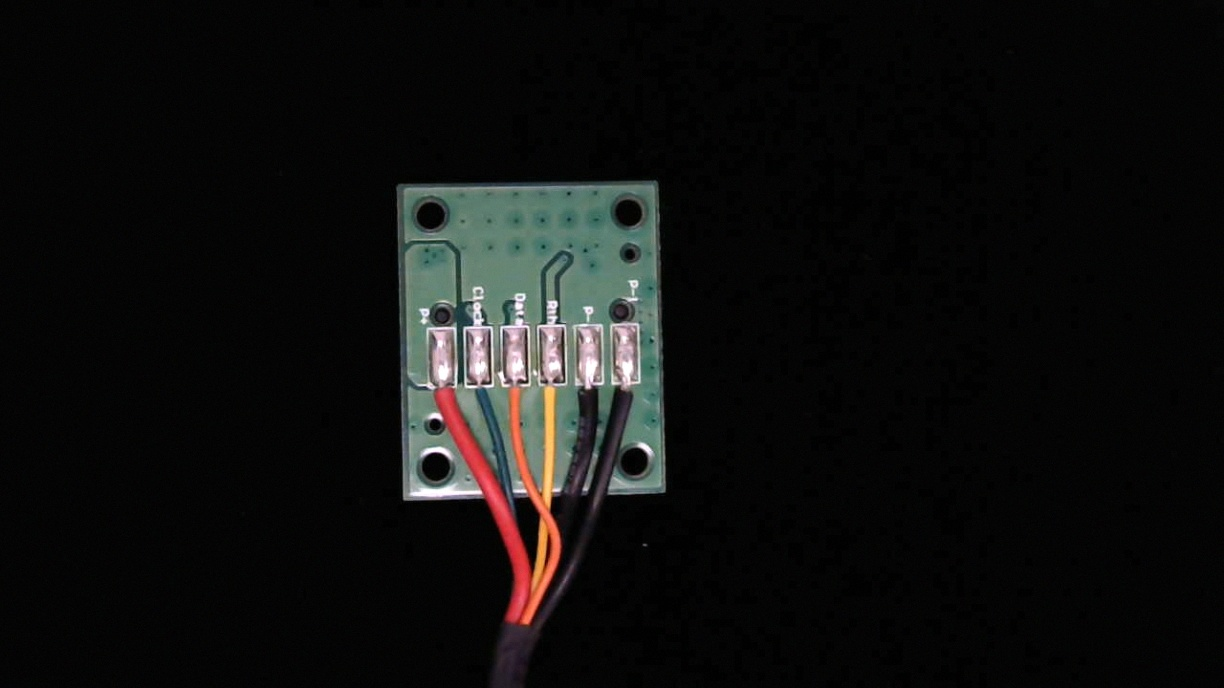Black: (572, 369, 604, 439)
Black1: (612, 370, 644, 434)
Green: (466, 368, 496, 423)
Orange: (501, 369, 532, 438)
Red: (426, 370, 458, 437)
Yellow: (536, 369, 568, 440)
